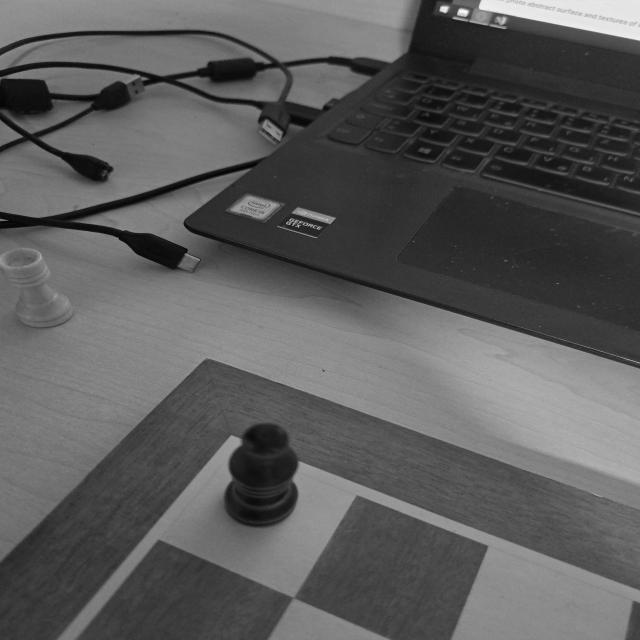chess-table-corners: (178, 417, 296, 477)
